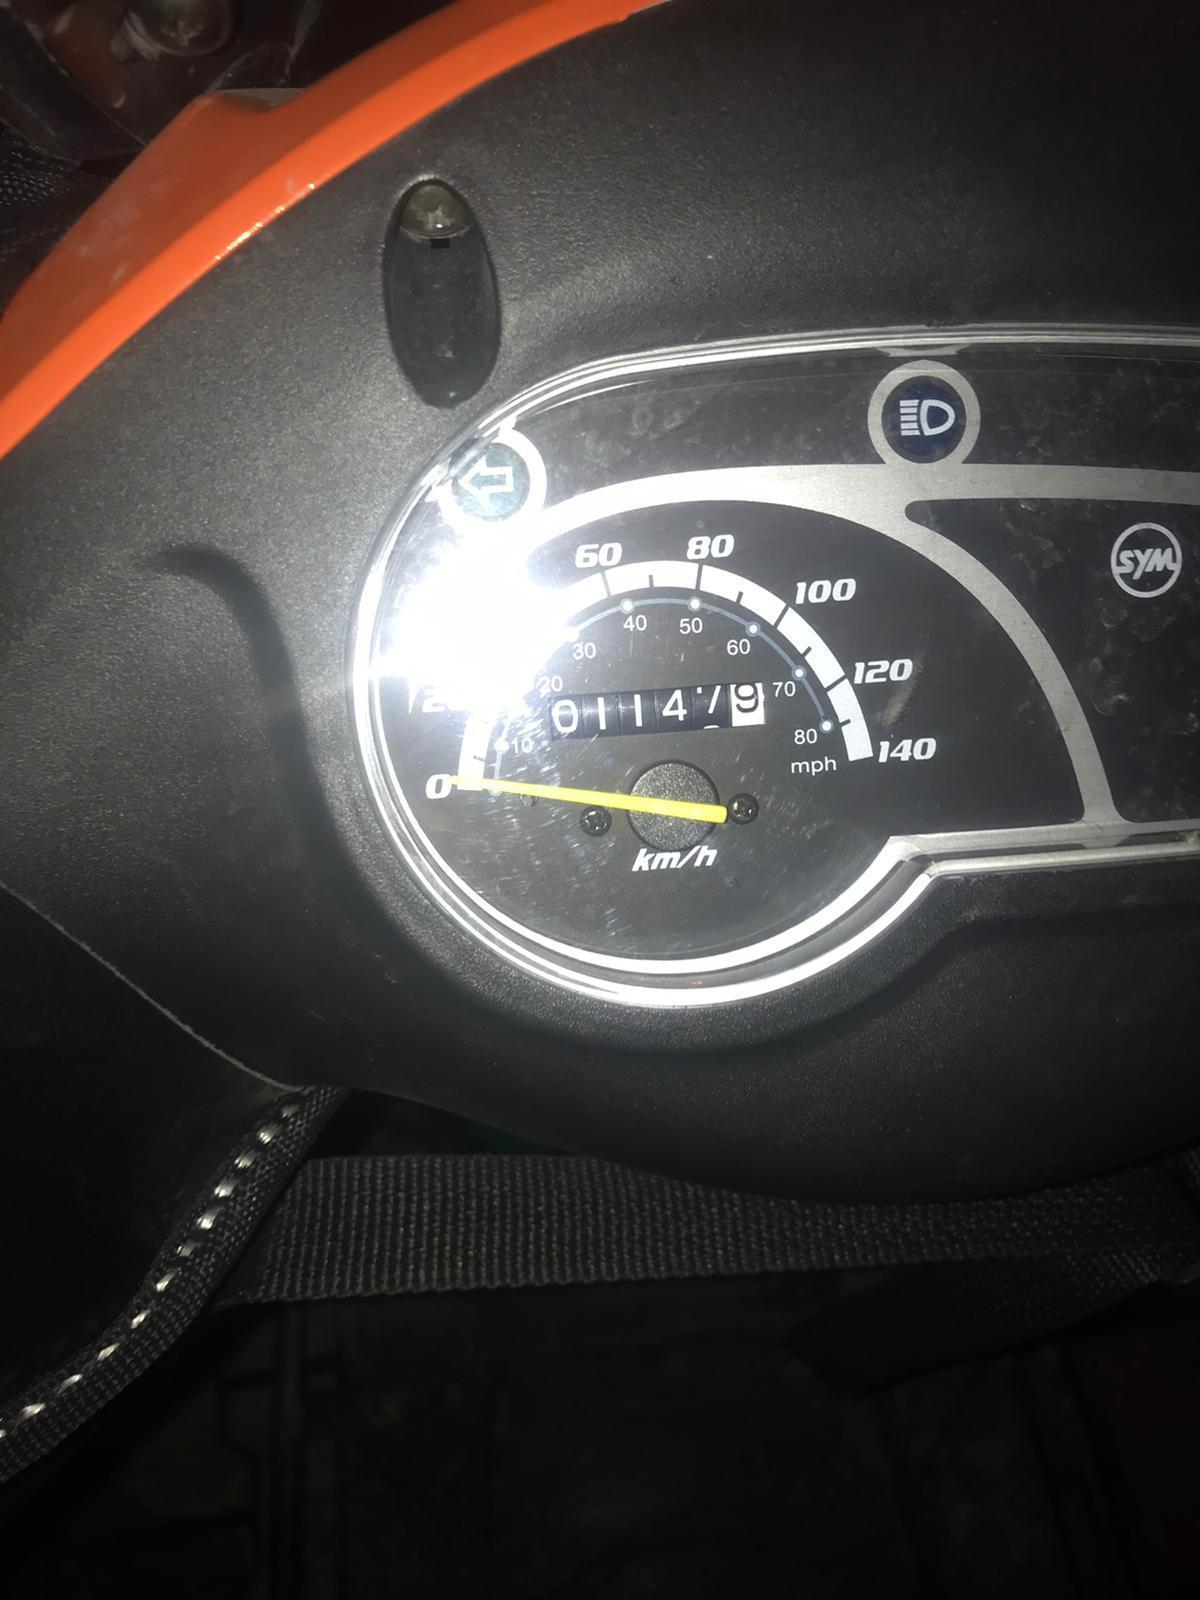0: (547, 699, 580, 738), (550, 673, 566, 690)
1: (592, 690, 610, 734), (628, 688, 645, 731)
2: (536, 674, 550, 694)
4: (661, 688, 688, 724)
7: (696, 682, 726, 716)
9: (734, 682, 763, 718)
odometer: (536, 678, 774, 742)
